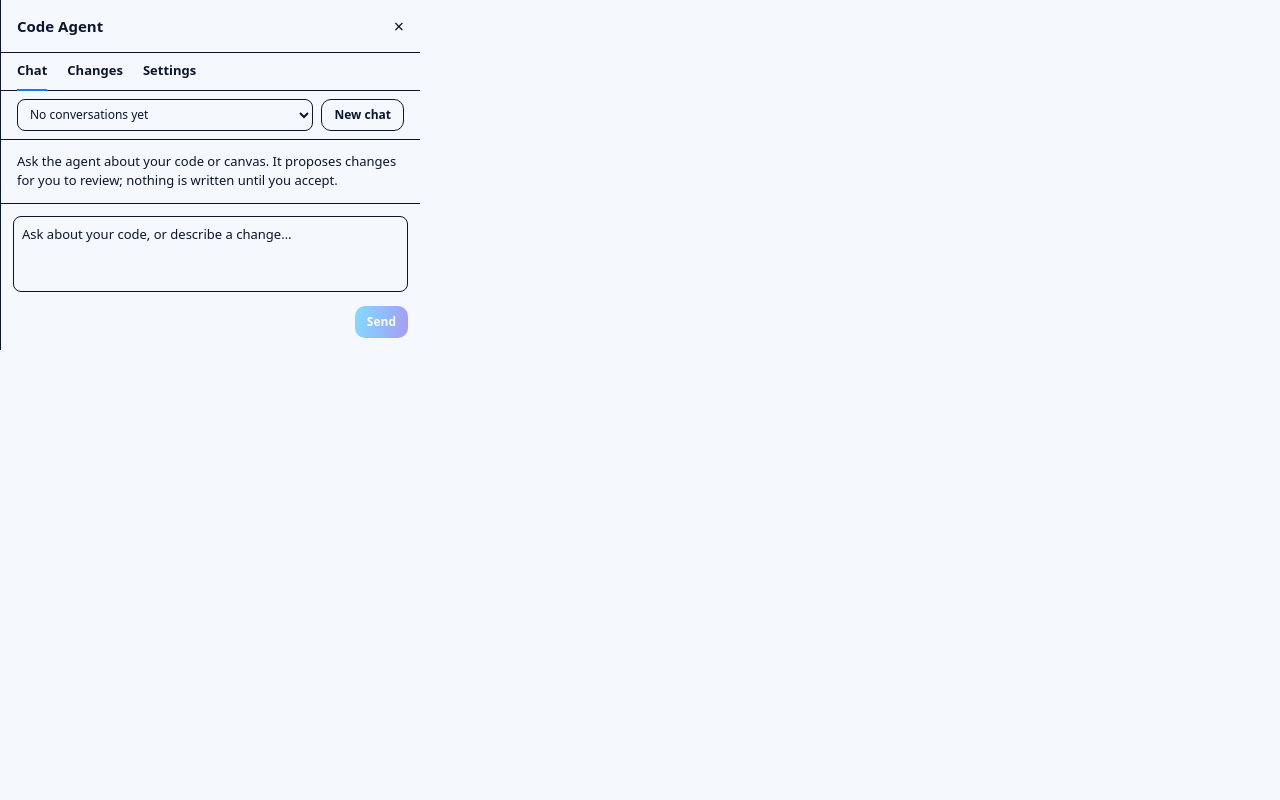
Test case: AgentPanel › settings change the permission level and show the exact context
Click the tab "Settings": (170, 72) [143,53,196,90]
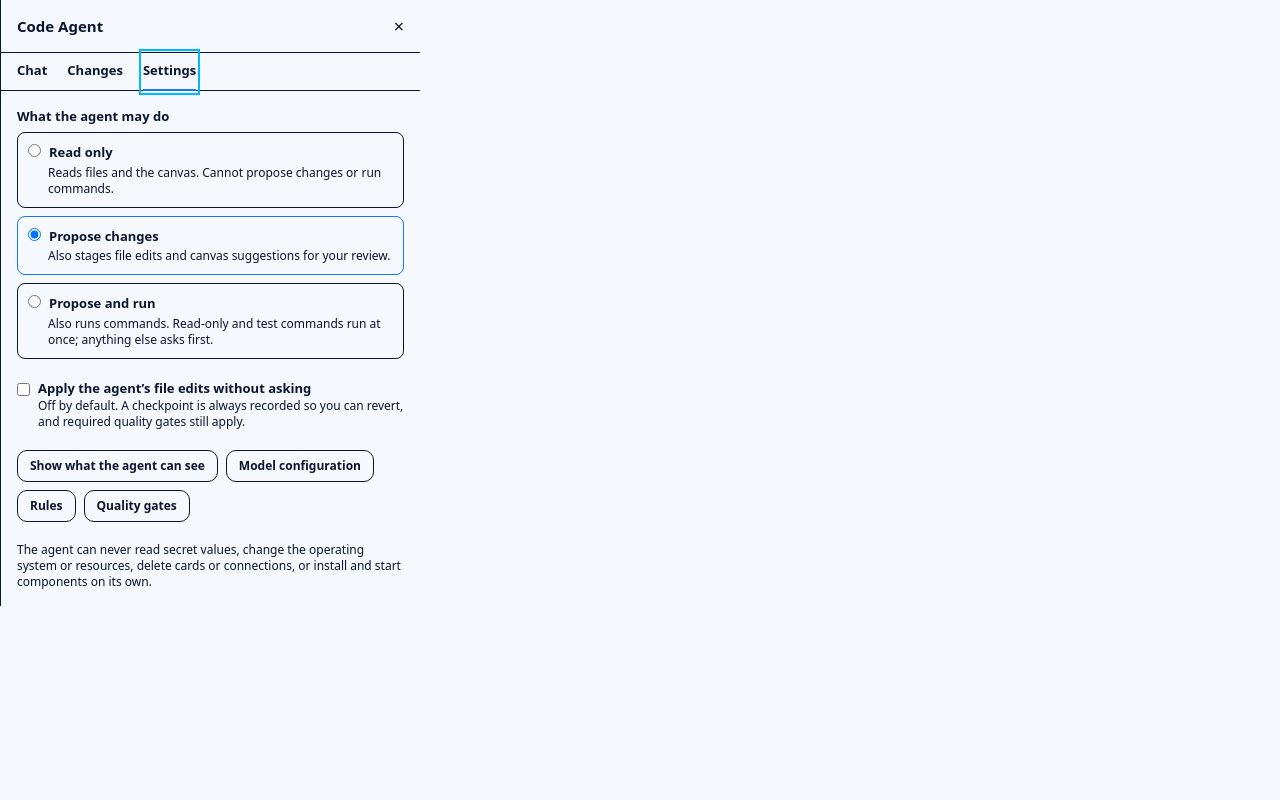
Expected: the radio button labelled "Propose changes" is checked, [28,228,41,240]
Click the radio button labelled "Propose and run": (34, 302) [28,295,41,308]
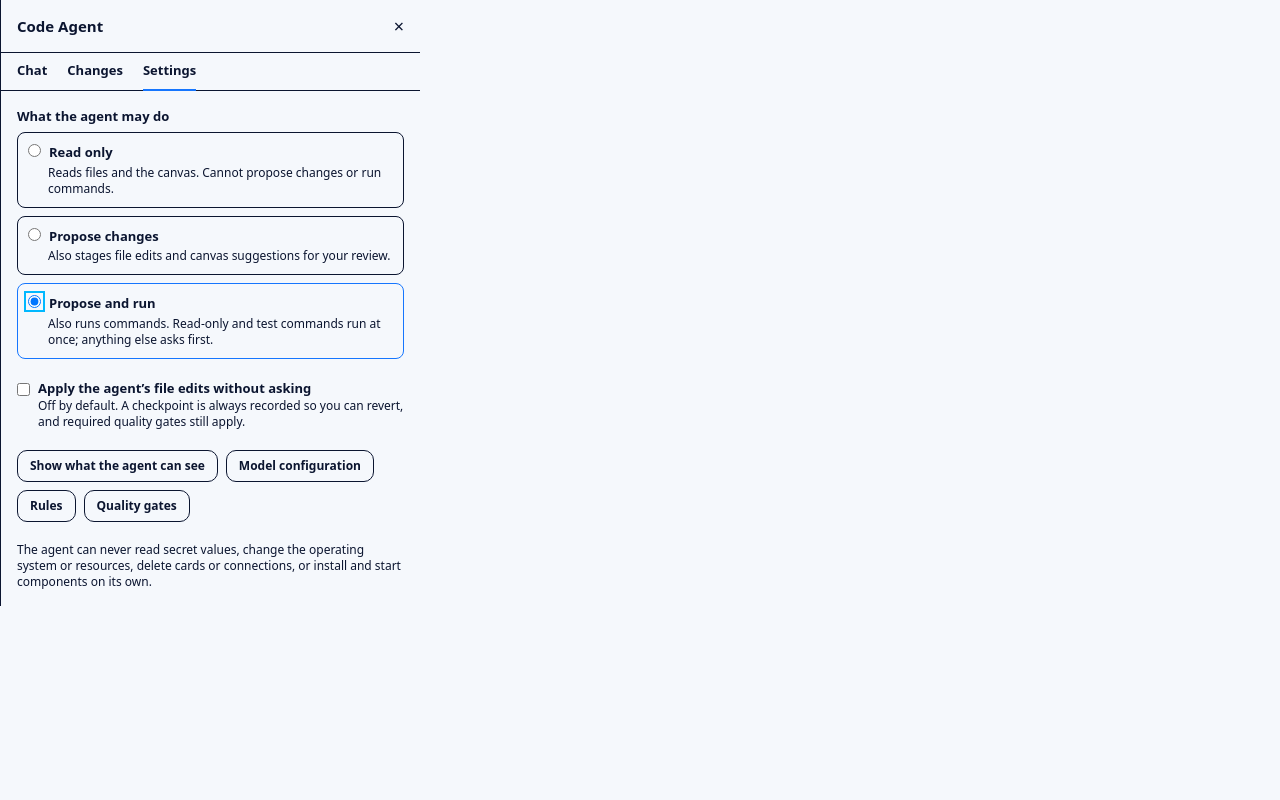
Click the button "Show what the agent can see": (117, 466) [17,450,218,482]
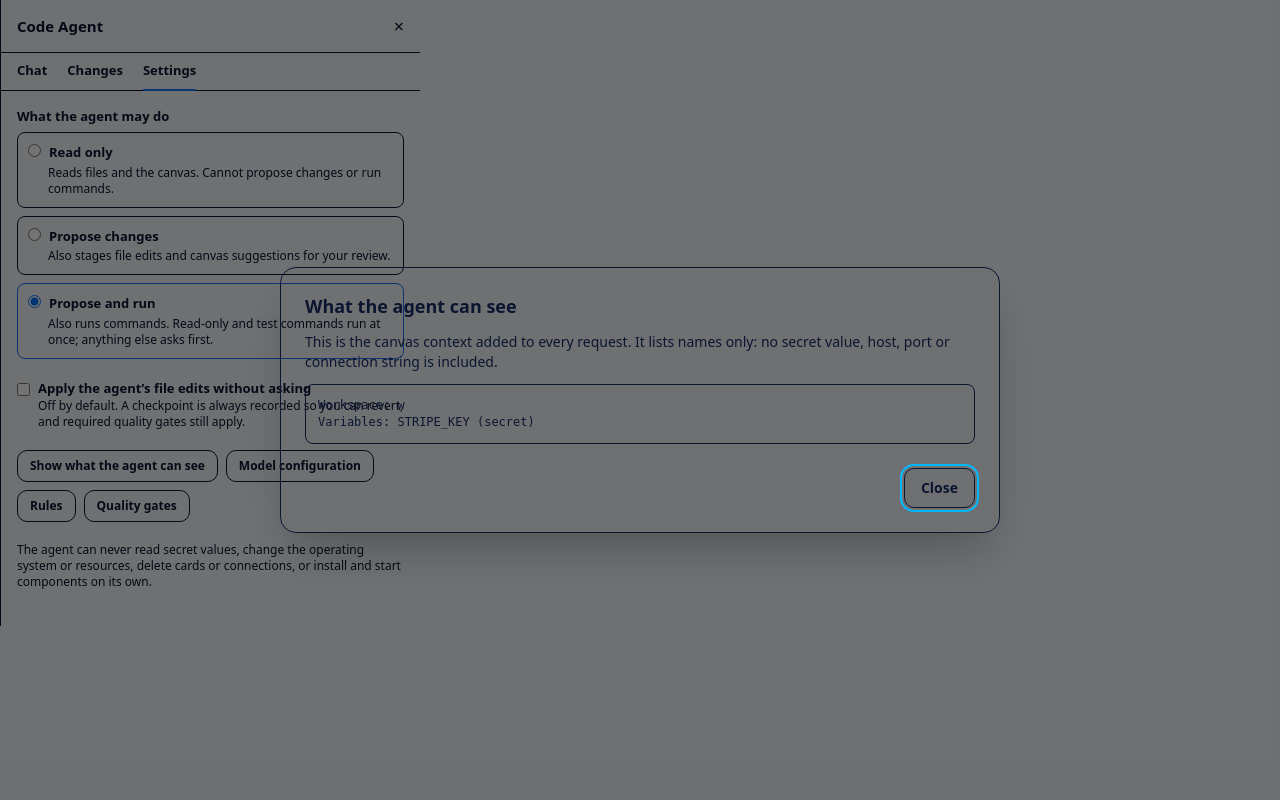
Expected: the text named "Agent context" shows "STRIPE_KEY (secret)", [318,398,535,429]
